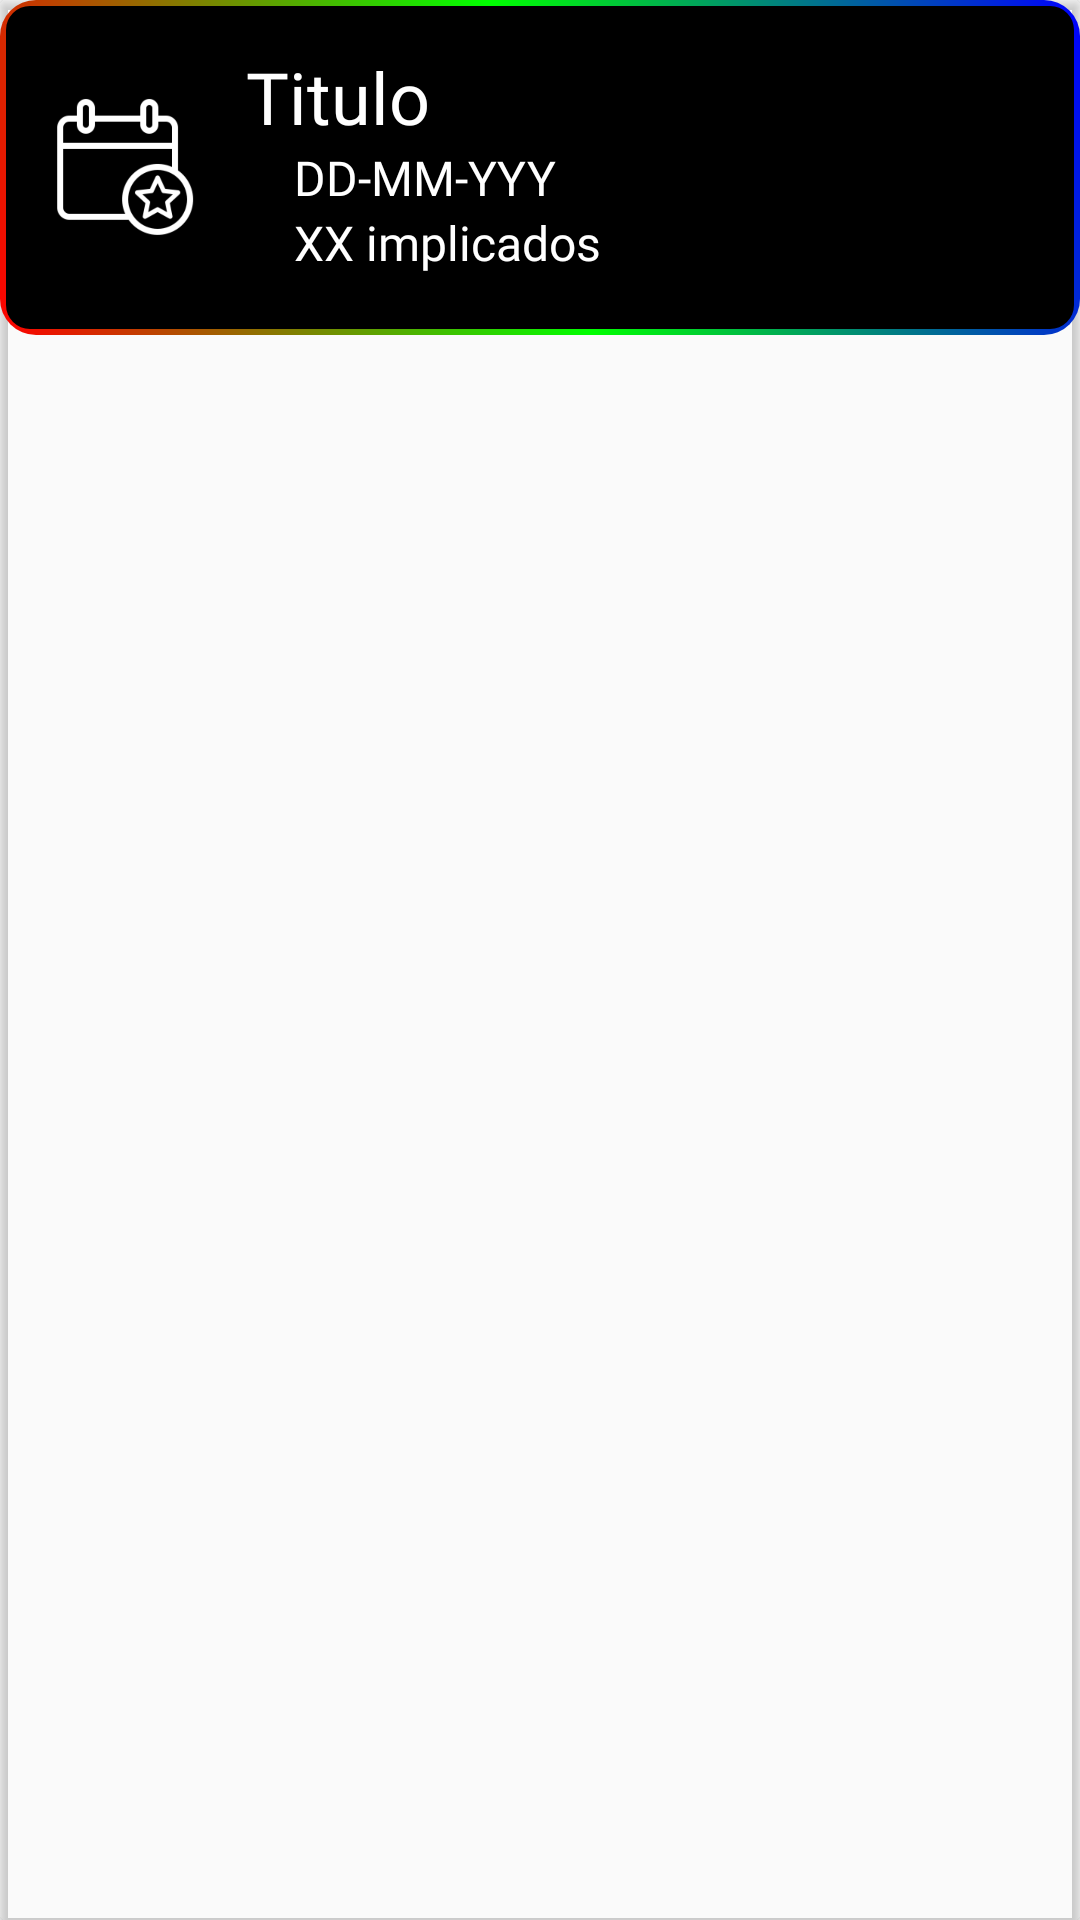

Icons on this 1080px x 1920px Android screen, each with its box as detection(x1, y1, x2, y2):
suceso: detection(57, 99, 194, 235)
